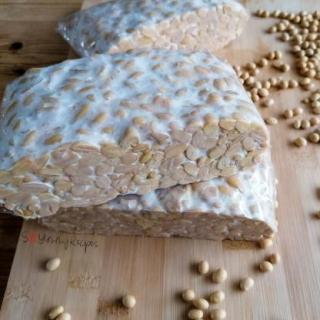Tempe: (1, 47, 274, 219)
